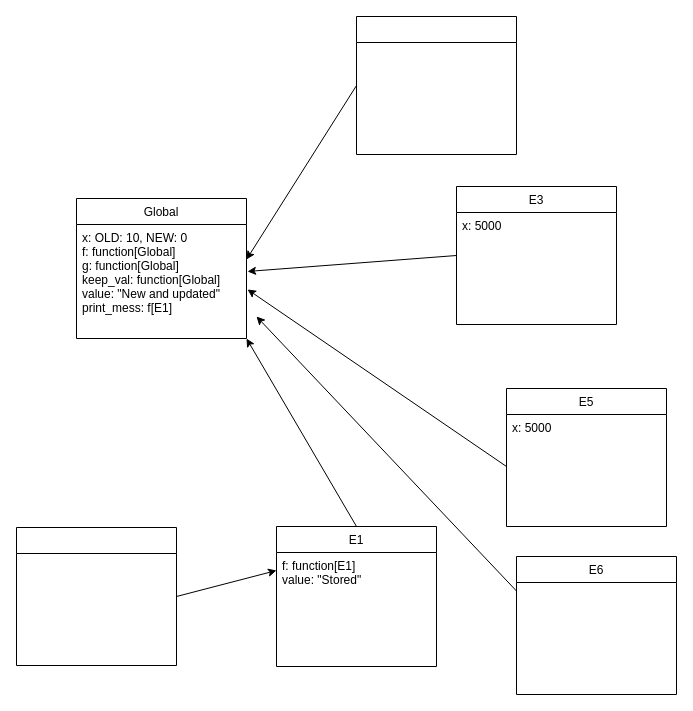
Some shapes in this 693 by 711 pixel diagram are drawn without their labels. The shapes that lost their labels are listed below. From the top down, each one's centre as x and y in pixels, then its label:
the point at 436,85: E4
the point at 96,596: E2
